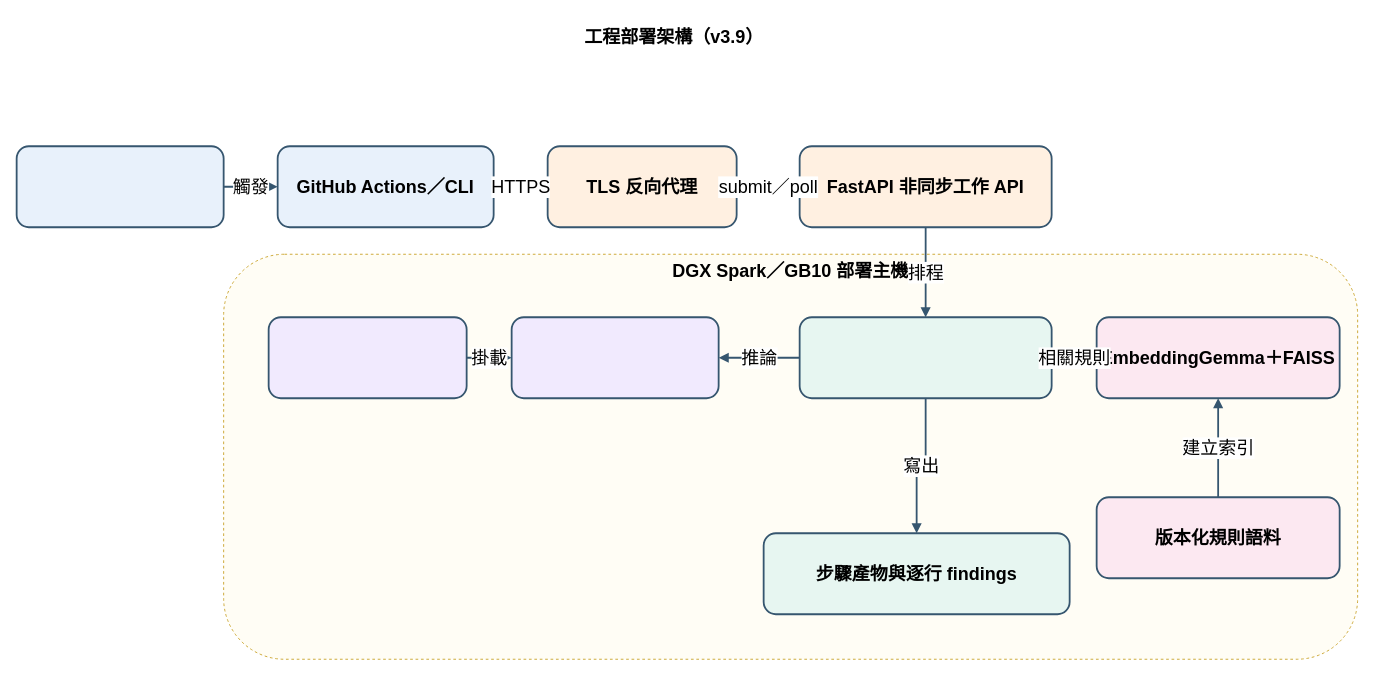
Image size: 1373x675. Some labels were removed from this diagram. Here are the shapes that lost their labels. From the top down, the centre of each, then its label:
(x=119, y=186): GitHub Pull Request
(x=367, y=357): 可選 LoRA 適配器
(x=614, y=357): Gemma-4-31B-it
(x=925, y=357): 多階段 CoT 管線
